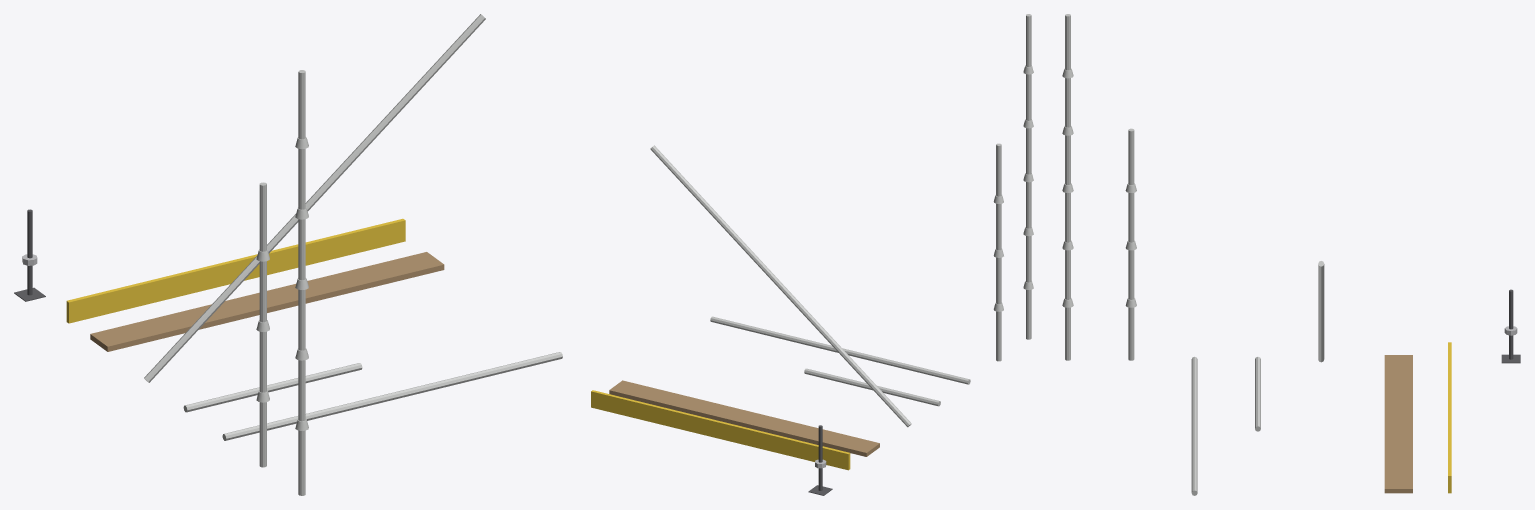
The model's file is SM_ScaffoldKit.fbx.
3 views of the same model, side by side, from view 1: azimuth 30°, elevation 25°; view 2: azimuth 150°, elevation 25°; view 3: azimuth 270°, elevation 25° (orthographic). The views are drawn at different scales.
Visible parts, largest first — view 1: SCK_ToeBoard_2p5m, SCK_Board_2p5m, SCK_Brace_2p5x2m, SCK_Standard_3m, SCK_Ledger_2p5m, SCK_Standard_2m, SCK_Ledger_1p3m, SCK_BaseJack; view 2: SCK_ToeBoard_2p5m, SCK_Board_2p5m, SCK_Brace_2p5x2m, SCK_Standard_3m, SCK_Ledger_2p5m, SCK_Standard_2m, SCK_Ledger_1p3m, SCK_BaseJack; view 3: SCK_Board_2p5m, SCK_Standard_3m, SCK_Standard_2m, SCK_Ledger_2p5m, SCK_Brace_2p5x2m, SCK_ToeBoard_2p5m, SCK_BaseJack.
Part boxes in pixels (bbox=[...]): SCK_ToeBoard_2p5m: bbox=[66, 218, 405, 323]; SCK_Board_2p5m: bbox=[90, 252, 444, 351]; SCK_Brace_2p5x2m: bbox=[144, 14, 485, 382]; SCK_Standard_3m: bbox=[295, 70, 308, 495]; SCK_Ledger_2p5m: bbox=[222, 352, 562, 440]; SCK_Standard_2m: bbox=[256, 182, 269, 467]; SCK_Ledger_1p3m: bbox=[183, 363, 362, 412]; SCK_BaseJack: bbox=[14, 209, 45, 301]; SCK_ToeBoard_2p5m: bbox=[591, 390, 850, 470]; SCK_Board_2p5m: bbox=[609, 380, 879, 456]; SCK_Brace_2p5x2m: bbox=[650, 145, 911, 427]; SCK_Standard_3m: bbox=[1023, 14, 1033, 339]; SCK_Ledger_2p5m: bbox=[710, 316, 970, 384]; SCK_Standard_2m: bbox=[993, 143, 1003, 361]; SCK_Ledger_1p3m: bbox=[804, 368, 940, 406]; SCK_BaseJack: bbox=[808, 425, 832, 495]; SCK_Board_2p5m: bbox=[1384, 355, 1412, 493]; SCK_Standard_3m: bbox=[1062, 14, 1073, 360]; SCK_Standard_2m: bbox=[1125, 128, 1136, 360]; SCK_Ledger_2p5m: bbox=[1191, 356, 1197, 495]; SCK_Brace_2p5x2m: bbox=[1318, 261, 1324, 362]; SCK_ToeBoard_2p5m: bbox=[1448, 342, 1451, 493]; SCK_BaseJack: bbox=[1501, 289, 1520, 363].
Size of the model in its own units: 259 by 302 by 362.
